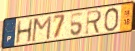5: (69, 11, 83, 37)
7: (52, 13, 67, 40)
H: (15, 18, 34, 45)
M: (30, 15, 53, 44)
O: (103, 6, 120, 33)
R: (84, 9, 103, 36)
